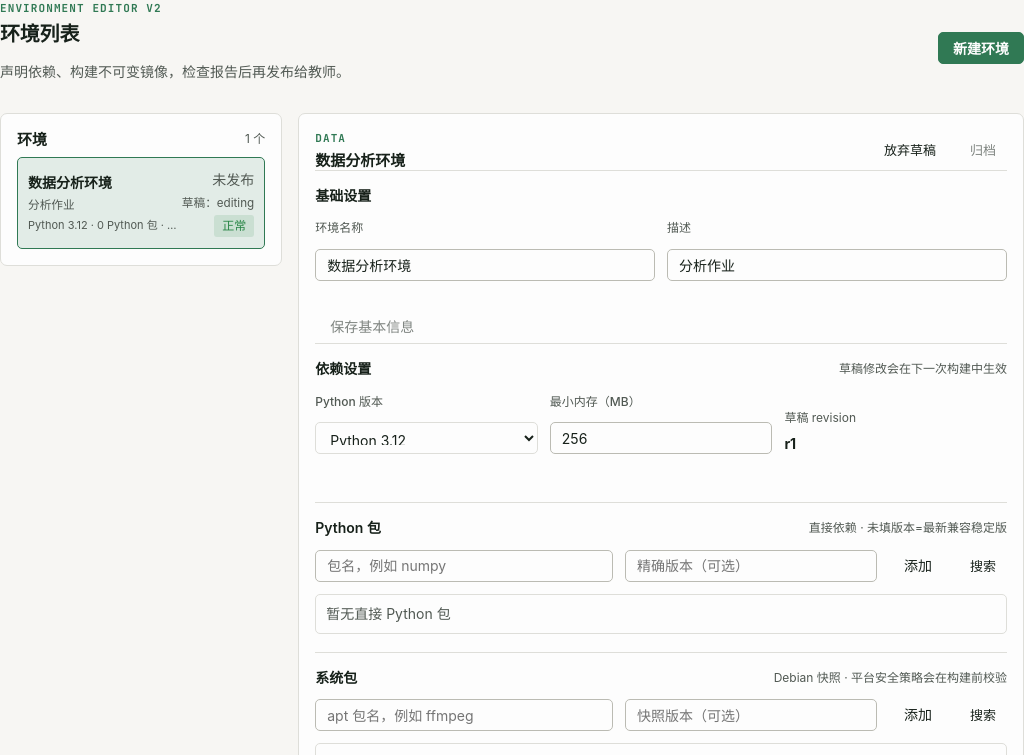
Scenario: EnvironmentEditorPanel › keeps the dialog open and shows the duplicate-name error inside it
Click the button "新建环境". click: (981, 48)
box: [938,32,1023,64]
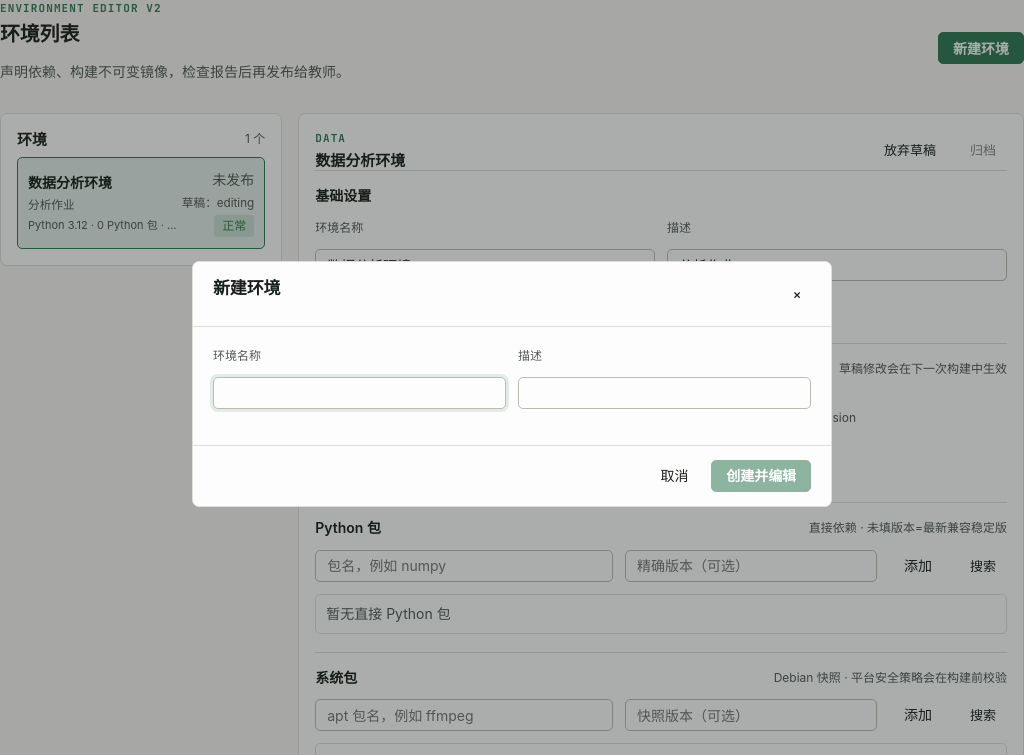
Type "重复环境" into the field labelled "环境名称". click: (360, 393)
box: [213,377,506,409]
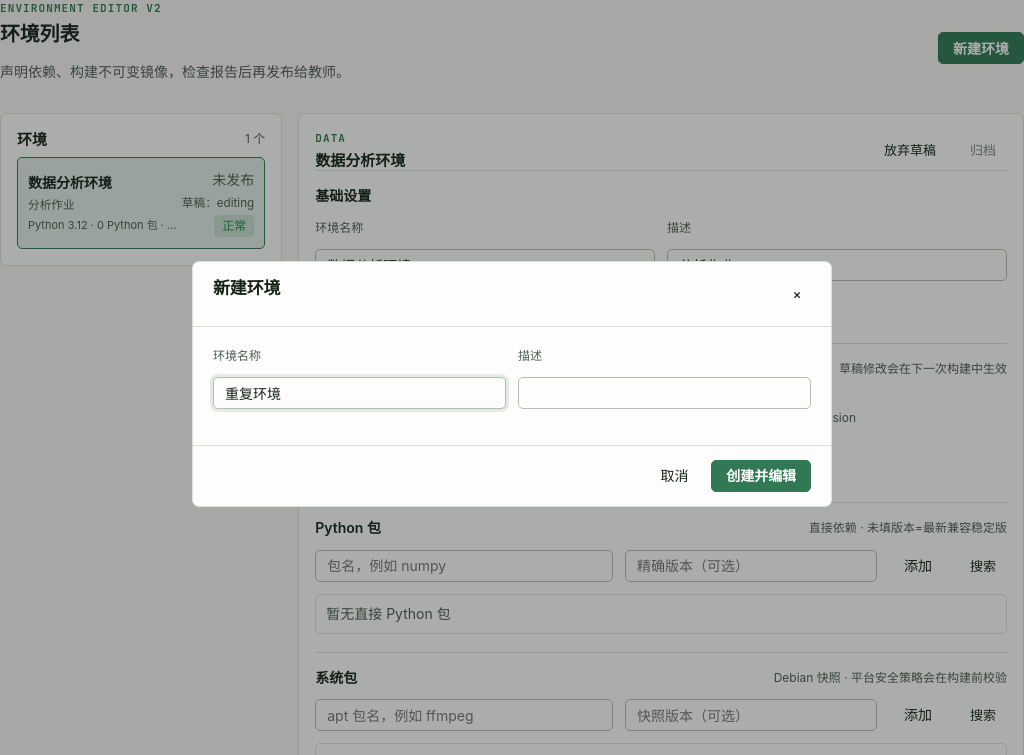
Submit the dialog, box [192,261,832,507]
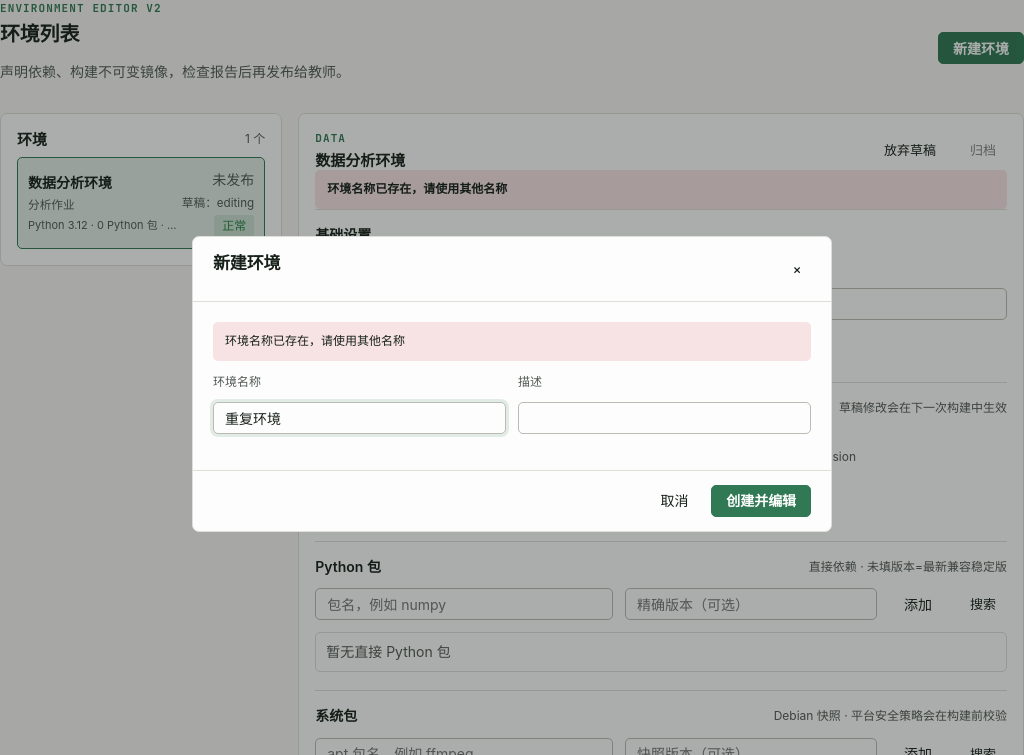
Check: the dialog is shown, box [192,236,832,532]
Check: the message "环境名称已存在，请使用其他名称" is shown, box [213,322,811,360]
